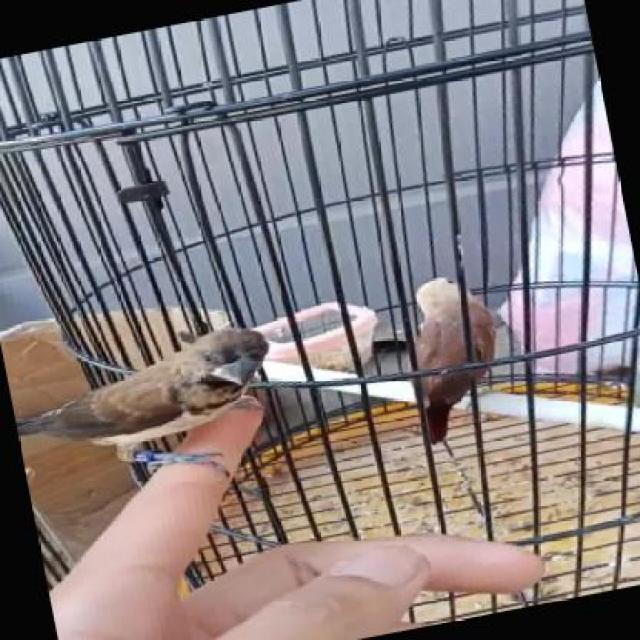Bird: (17, 320, 272, 455), (405, 272, 494, 446)
